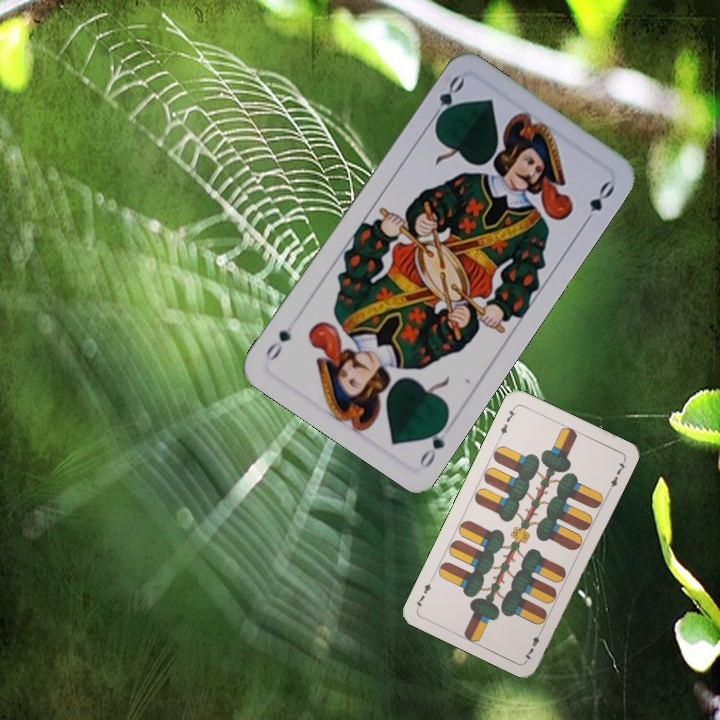E7: (520, 625, 545, 663), (495, 403, 519, 441)
GO: (425, 71, 467, 128), (415, 415, 451, 471)
